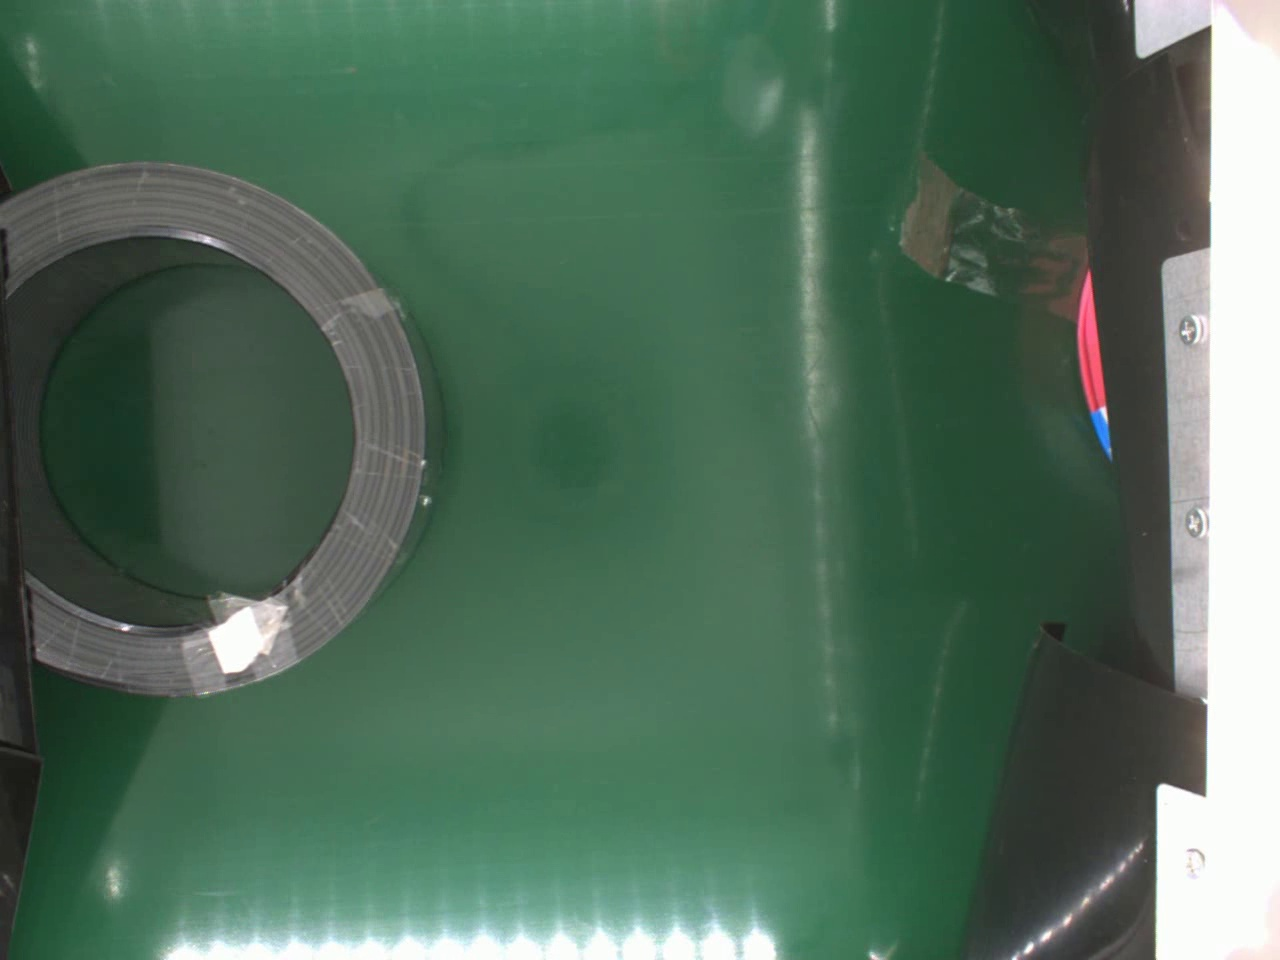black: (0, 159, 447, 707)
